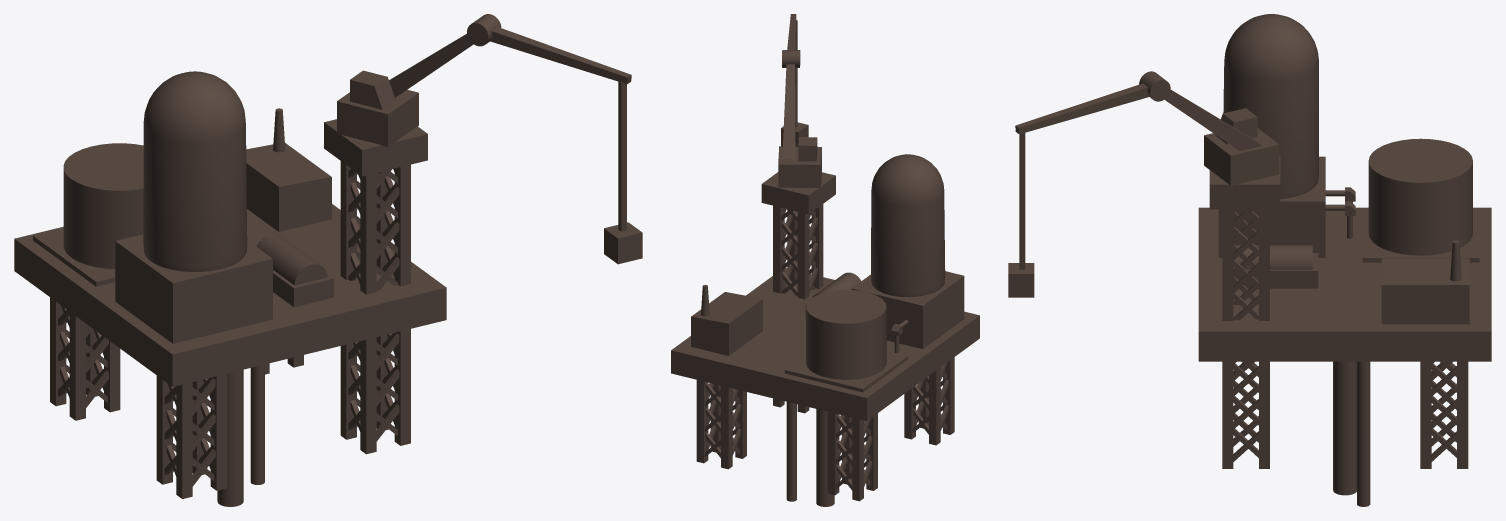
The model's file is oilplatform.fbx.
3 views of the same model, side by side, from view 1: azimuth 30°, elevation 25°; view 2: azimuth 150°, elevation 25°; view 3: azimuth 270°, elevation 25° (orthographic). The views are drawn at different scales.
Parts seen in each view (by area): view 1: Cube, Sphere, Cube.081, Cylinder.007, Cube.082, Cube.108, Cube.107, Cube.109, Cylinder, Cube.083, Cube.001, Cube.021 (+16 smaller); view 2: Cube, Sphere, Cylinder.007, Cube.081, Cube.082, Cube.107, Cube.108, Cube.109, Cube.087, Cylinder, Cube.089, Cylinder.001 (+13 smaller); view 3: Cube, Sphere, Cylinder.007, Cube.082, Cube.108, Cube.081, Cylinder, Cube.109, Cube.107, Cylinder.001, Cube.087, Cube.088 (+10 smaller).
Part boxes in pixels (bbox=[...]): Cube: bbox=[14, 204, 446, 386]; Sphere: bbox=[143, 71, 247, 271]; Cube.081: bbox=[115, 234, 272, 343]; Cylinder.007: bbox=[63, 143, 143, 269]; Cube.082: bbox=[246, 143, 331, 231]; Cube.108: bbox=[389, 14, 631, 97]; Cube.107: bbox=[324, 119, 427, 176]; Cube.109: bbox=[337, 89, 418, 146]; Cylinder: bbox=[217, 369, 243, 506]; Cube.083: bbox=[360, 173, 376, 294]; Cube.001: bbox=[176, 382, 192, 498]; Cube.021: bbox=[360, 337, 376, 454]; Cube: bbox=[671, 268, 979, 421]; Sphere: bbox=[871, 154, 945, 297]; Cylinder.007: bbox=[806, 290, 886, 379]; Cube.081: bbox=[851, 271, 964, 348]; Cube.082: bbox=[691, 292, 762, 355]; Cube.107: bbox=[761, 172, 835, 214]; Cube.108: bbox=[782, 14, 800, 159]; Cube.109: bbox=[778, 146, 821, 188]; Cube.087: bbox=[784, 351, 907, 392]; Cylinder: bbox=[816, 409, 834, 506]; Cube.089: bbox=[797, 211, 809, 299]; Cylinder.001: bbox=[786, 402, 796, 501]; Cube: bbox=[1198, 207, 1491, 361]; Sphere: bbox=[1223, 14, 1318, 198]; Cylinder.007: bbox=[1368, 138, 1472, 255]; Cube.082: bbox=[1381, 258, 1469, 324]; Cube.108: bbox=[1015, 71, 1261, 150]; Cube.081: bbox=[1218, 156, 1325, 257]; Cylinder: bbox=[1333, 361, 1356, 495]; Cube.109: bbox=[1204, 128, 1279, 185]; Cube.107: bbox=[1209, 155, 1280, 209]; Cylinder.001: bbox=[1357, 361, 1370, 506]; Cube.087: bbox=[1362, 208, 1479, 262]; Cube.088: bbox=[1222, 209, 1233, 320].
Size of the model in its own units: 268 by 363 by 330.
